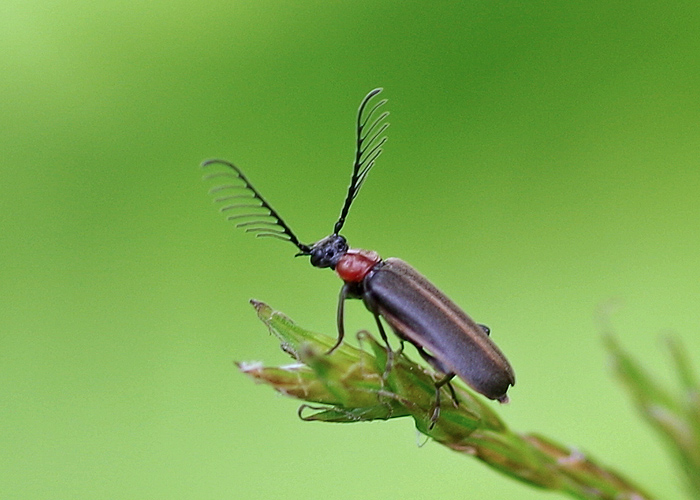Calligrapha beetle: (200, 133, 524, 444)
